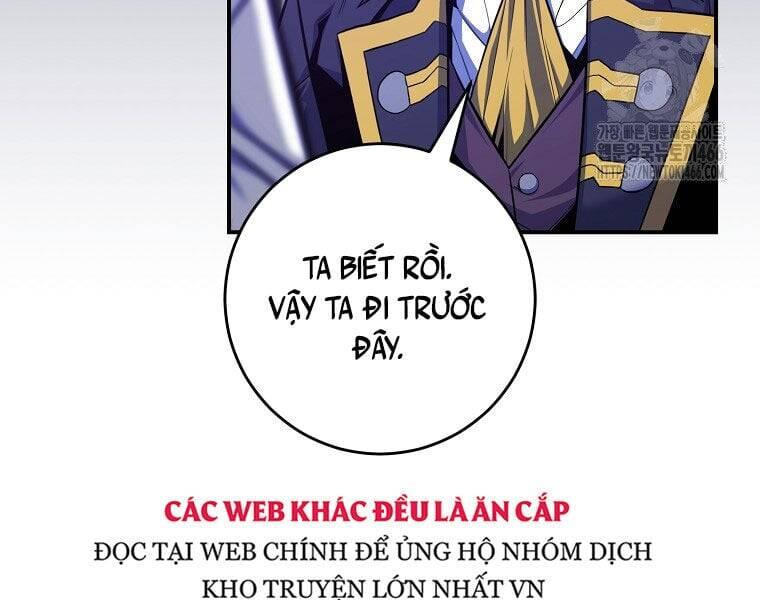quangcao: (96, 494, 655, 600)
